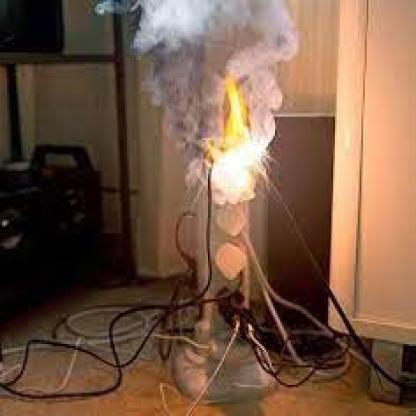fire: (214, 78, 268, 197)
smoke: (81, 0, 301, 183)
